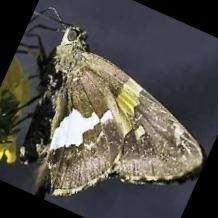butterfly: (19, 26, 205, 199)
